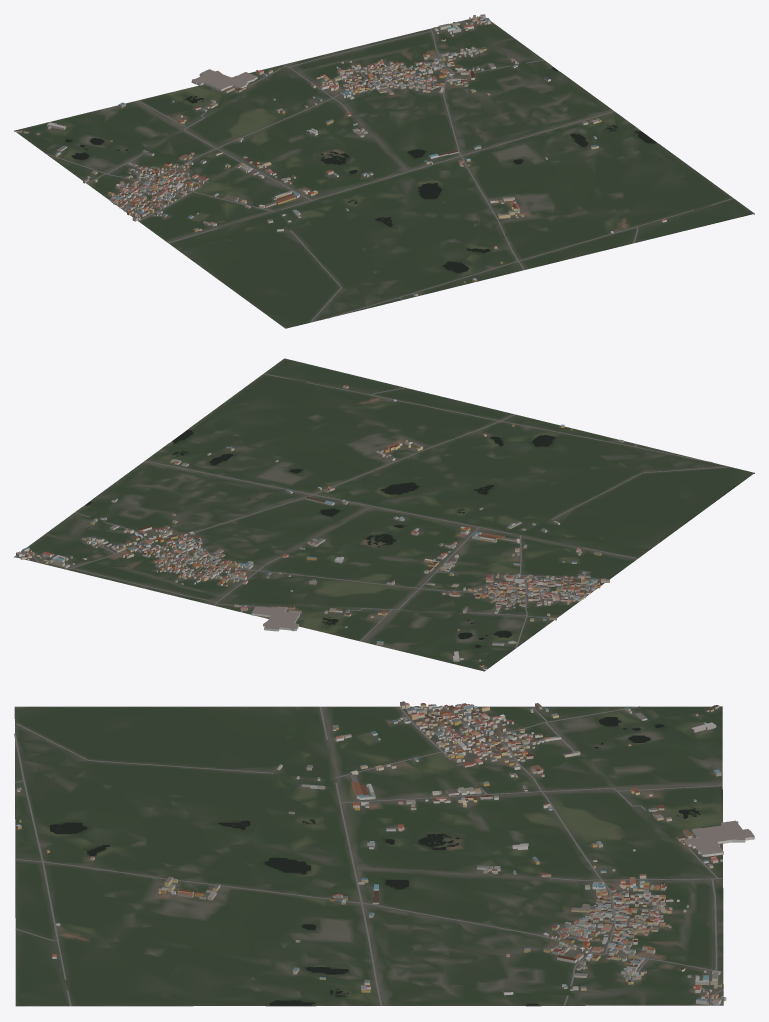
The picture shows the model from 3 angles, top to bottom: view 1: azimuth 30°, elevation 25°; view 2: azimuth 150°, elevation 25°; view 3: azimuth 270°, elevation 25°; orthographic projection. The views are drawn at different scales.
Visible parts, largest first — view 1: ground, buildings, roads, water; view 2: ground, buildings, roads, water; view 3: ground, buildings, roads, water.
Boxes of the visible parts, x1,y1,x2,y2 form: ground: (14,17,754,328); buildings: (16,14,666,296); roads: (45,16,733,322); water: (65,67,656,273); ground: (14,358,754,671); buildings: (16,385,623,670); roads: (15,373,727,648); water: (85,429,555,647); ground: (14,706,723,1006); buildings: (15,701,754,1005); roads: (14,706,723,1006); water: (49,717,700,1005).
Bounding box in the file's own units: 1415 × 14.29 × 1468.
